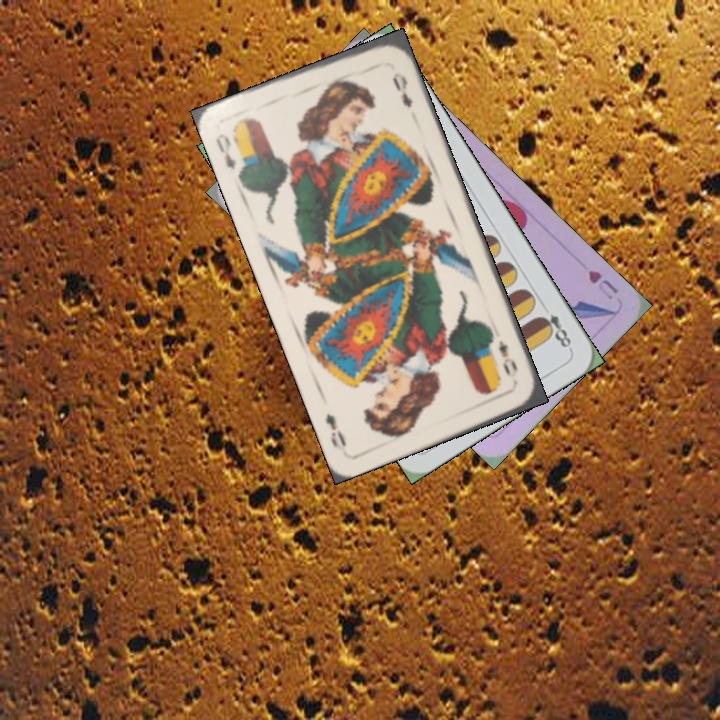E8: (534, 309, 575, 353)
EO: (211, 129, 239, 172), (494, 336, 520, 379)
HU: (584, 266, 621, 303)
